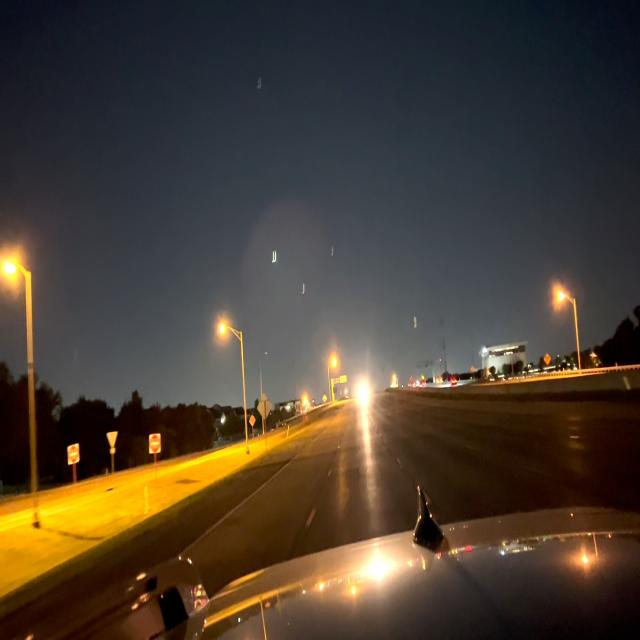back-of-sign: (258, 393, 271, 419)
